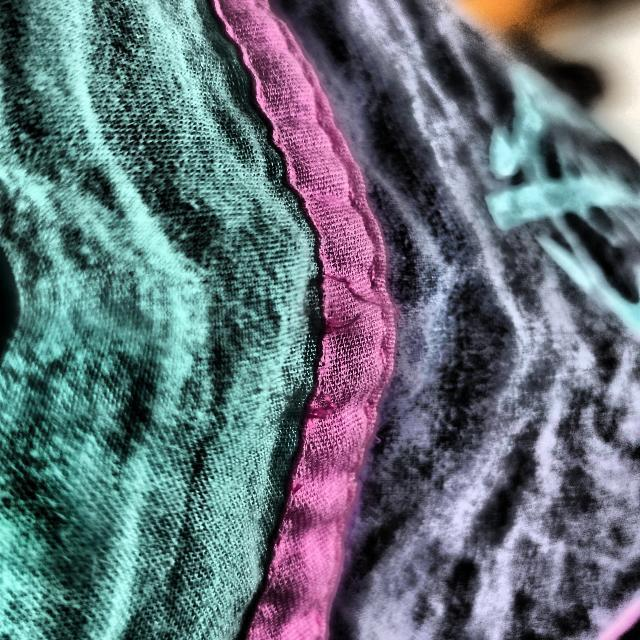gray stitch: (244, 244, 439, 336), (251, 361, 406, 439)
